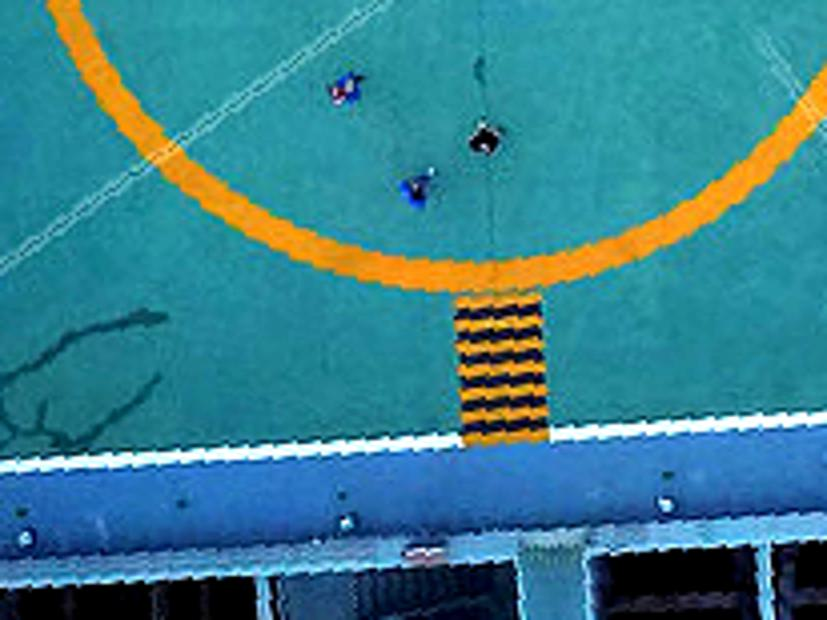Apron: (25, 1, 827, 300)
